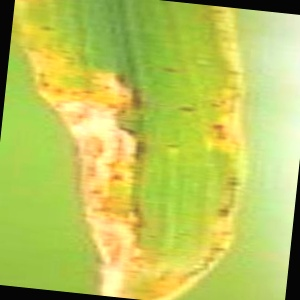Leaf_Blast: (43, 5, 237, 289)
